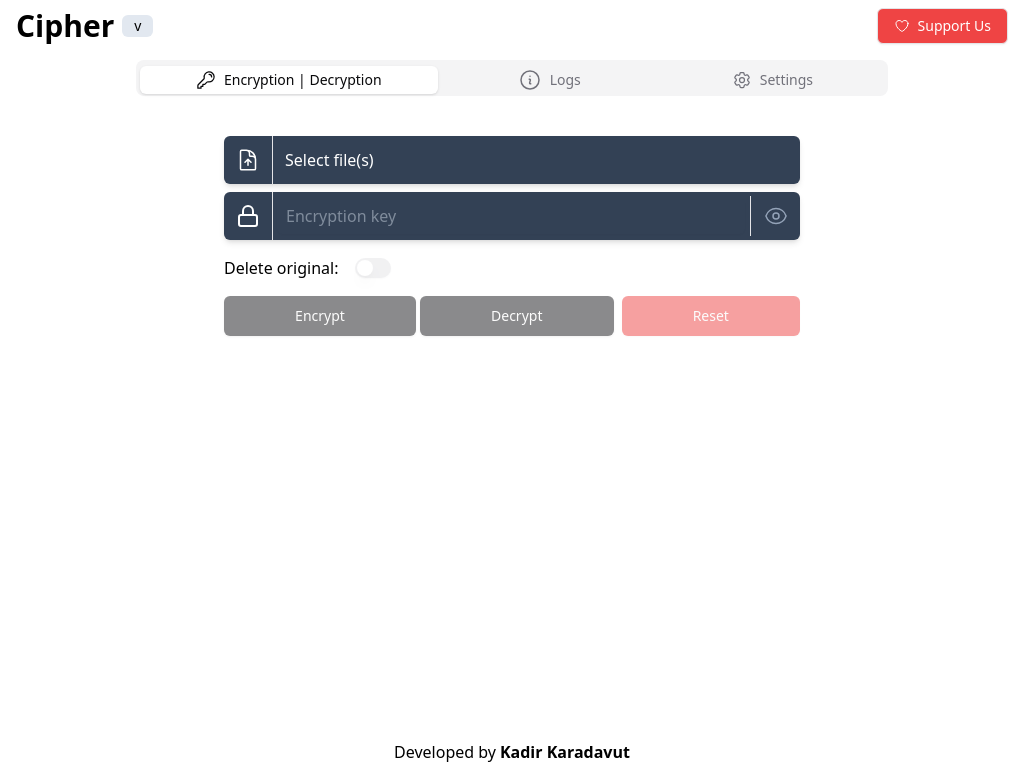
Test case: Tauri + React App › should validate settings
Click the tab "Settings" at (773, 80), box [661, 66, 884, 94]
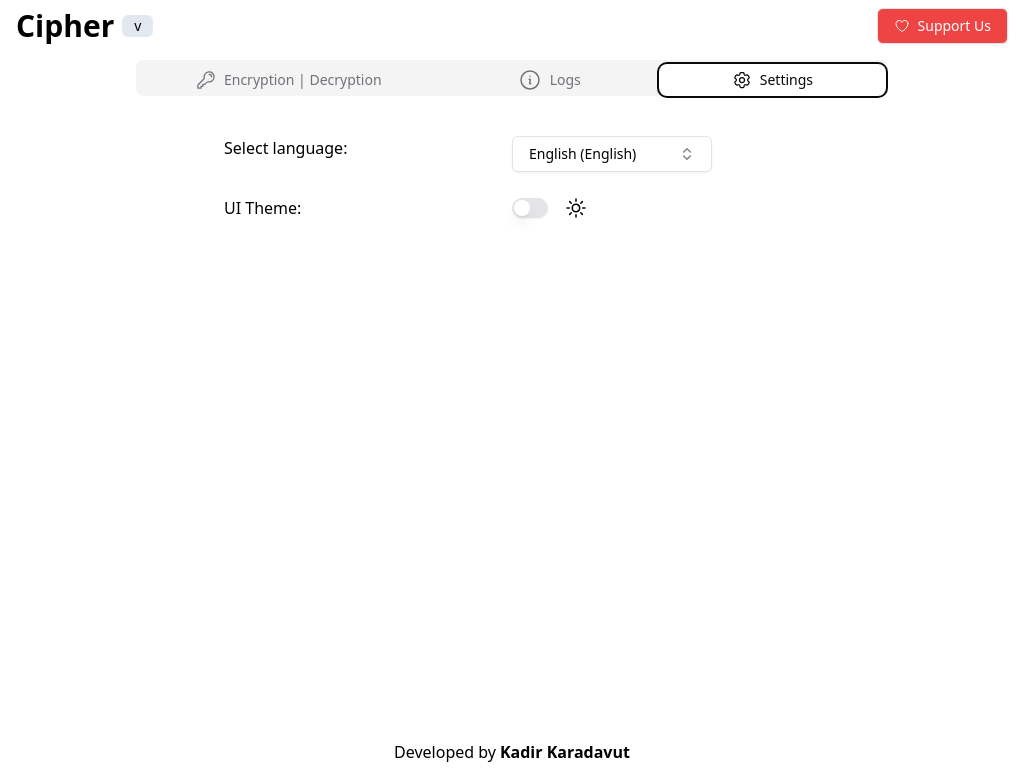
Result: the text with class "overflow-hidden" reads "English (English)" at [529, 144, 636, 164]
